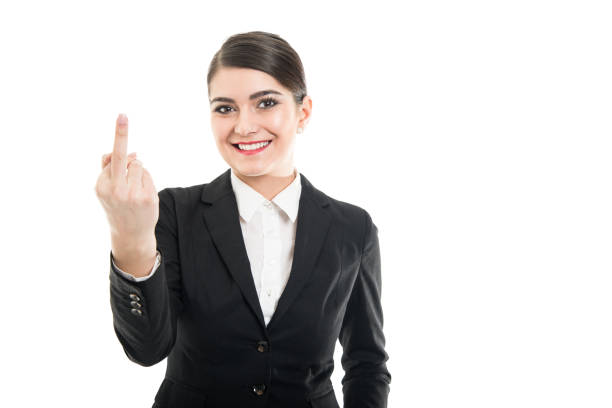insulting_gesture: (94, 112, 160, 223)
